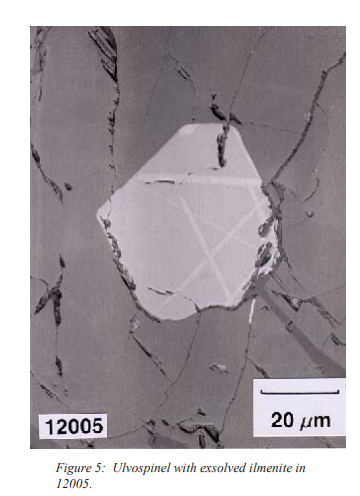Basalt: (27, 106, 344, 350)
